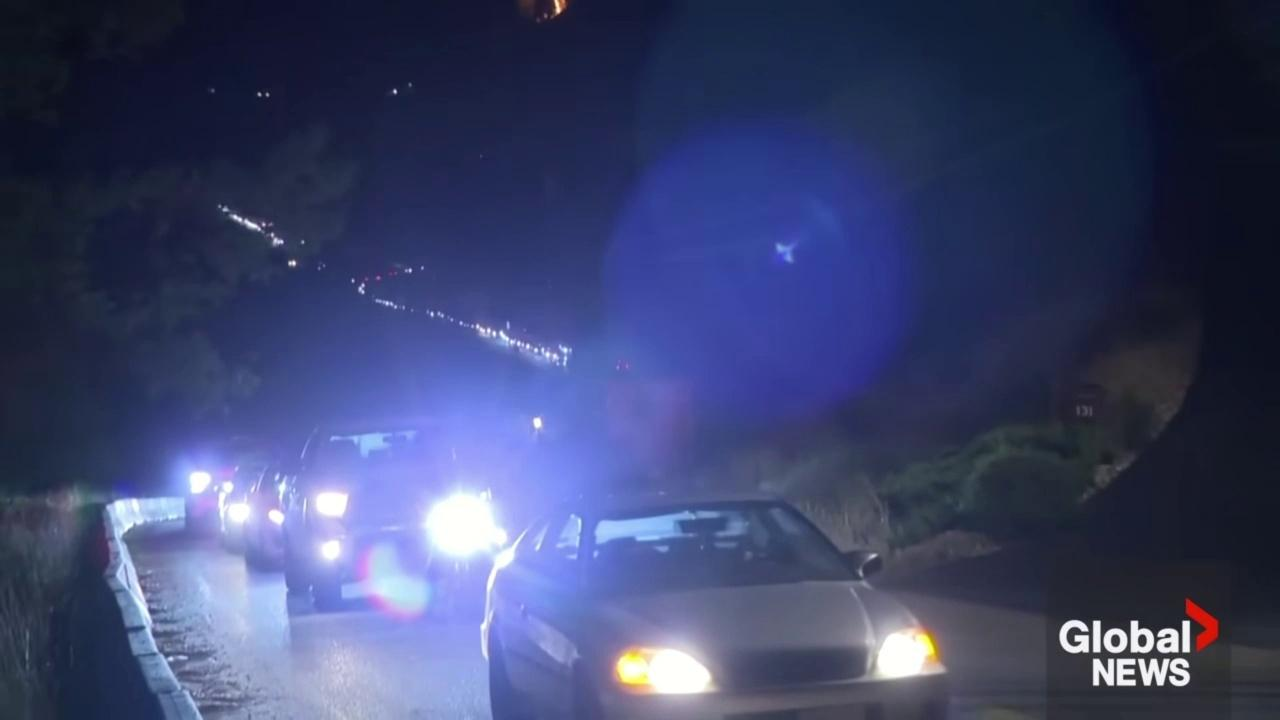fire: (552, 0, 568, 20)
smoke: (518, 0, 553, 24)
